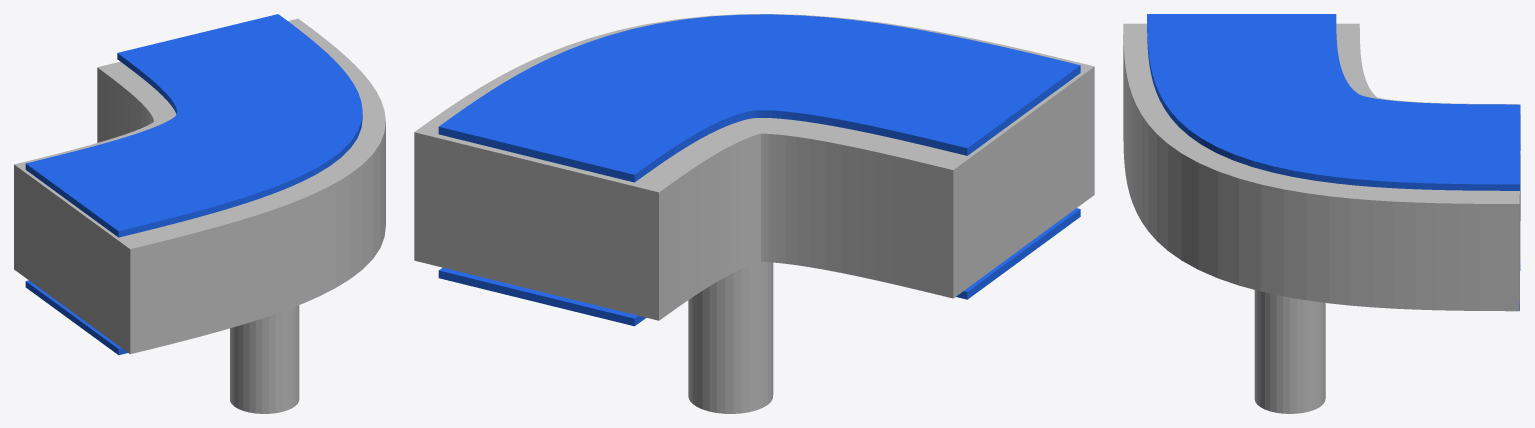
Rendered from 传送带 拐角 (1).fbx.
The picture shows the model from 3 angles, left to right: view 1: azimuth 30°, elevation 25°; view 2: azimuth 150°, elevation 25°; view 3: azimuth 270°, elevation 25°; orthographic projection. The views are drawn at different scales.
Visible parts, largest first — view 1: 传送带.003; view 2: 传送带.003; view 3: 传送带.003.
Boxes of the visible parts, <box> form: 传送带.003: <box>14,14,385,413</box>; 传送带.003: <box>414,14,1094,413</box>; 传送带.003: <box>1123,14,1520,413</box>.
Size of the model in its own units: 181 by 130 by 168.
